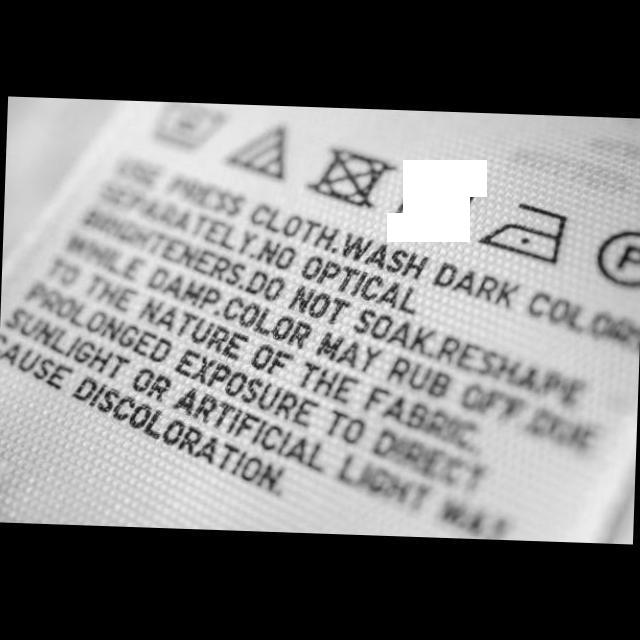DN_tumble_dry: (298, 140, 402, 212)
iron_low: (470, 197, 570, 269)
non_chlorine_bleach: (220, 113, 292, 186)
normal_dry_clean_solvents: (592, 222, 640, 294)
